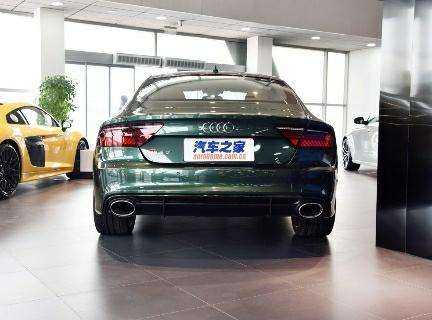car: (81, 62, 346, 255), (0, 87, 99, 196)
